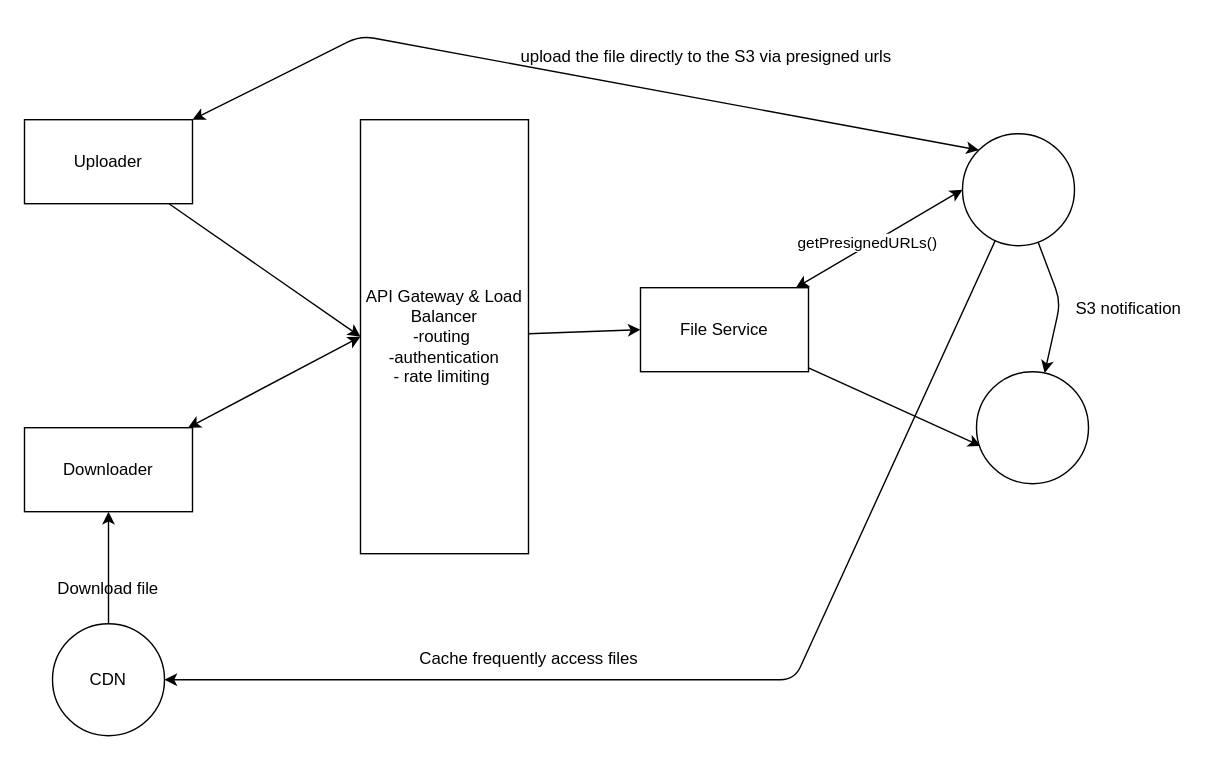
This 1225x760 diagram has some shape labels left out. Here are the shapes that lost their labels. From the top down, the centre of each, then its label:
At point 1017,189: "S3 storage".
At point 1031,427: "File Metadata".
